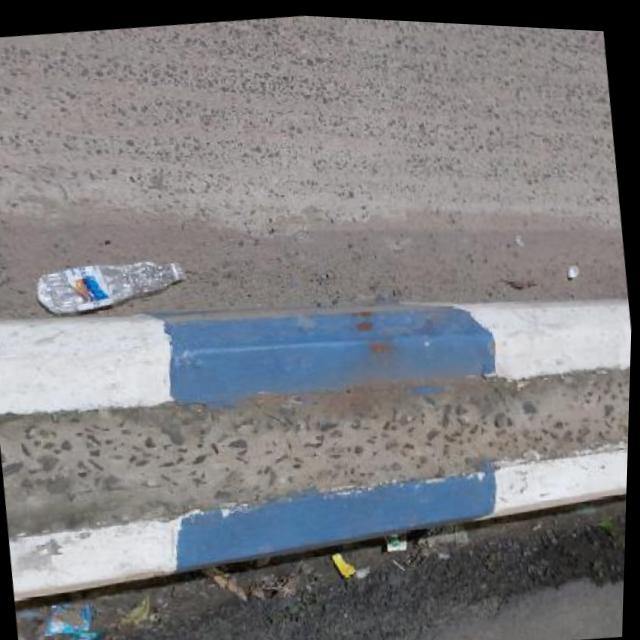plastic: (321, 56, 392, 219), (374, 593, 388, 608)
